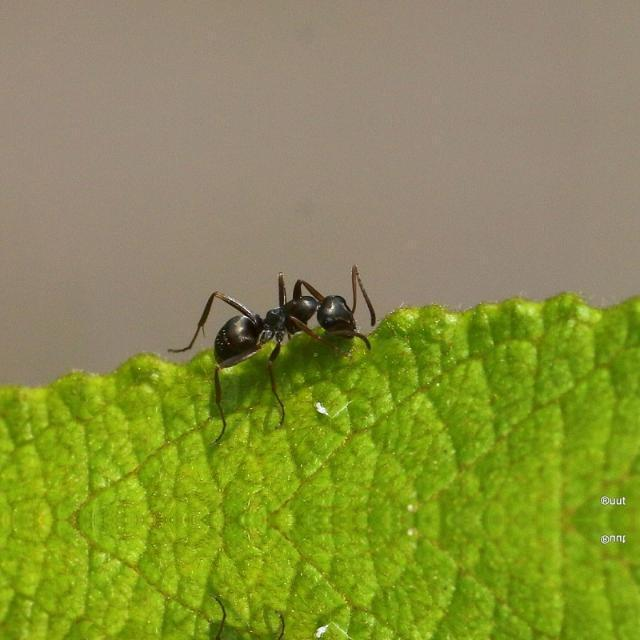Formica: (167, 256, 387, 386)
